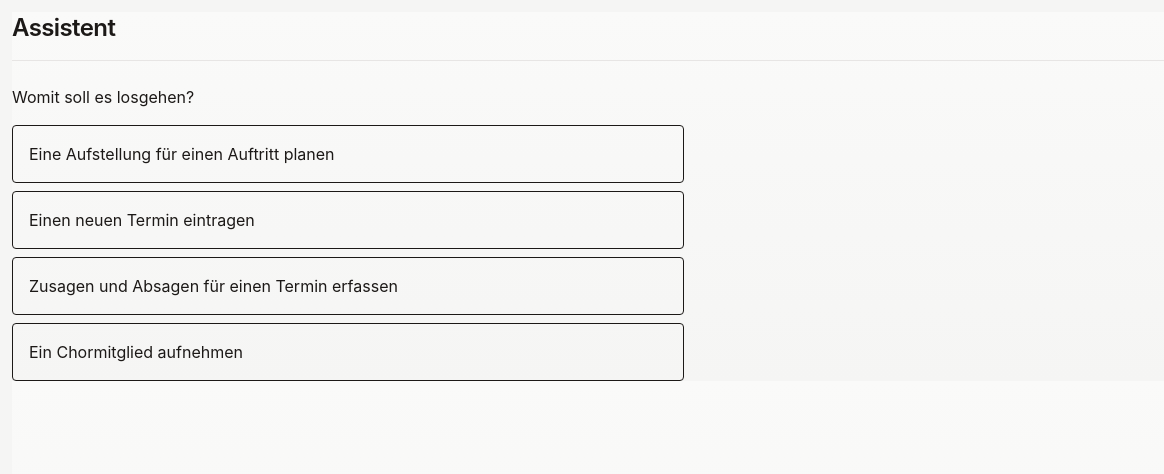
Scenario: WizardPage › termin flow creates an event
Click the button "Einen neuen Termin eintragen" at (142, 220), box [12,191,684,249]
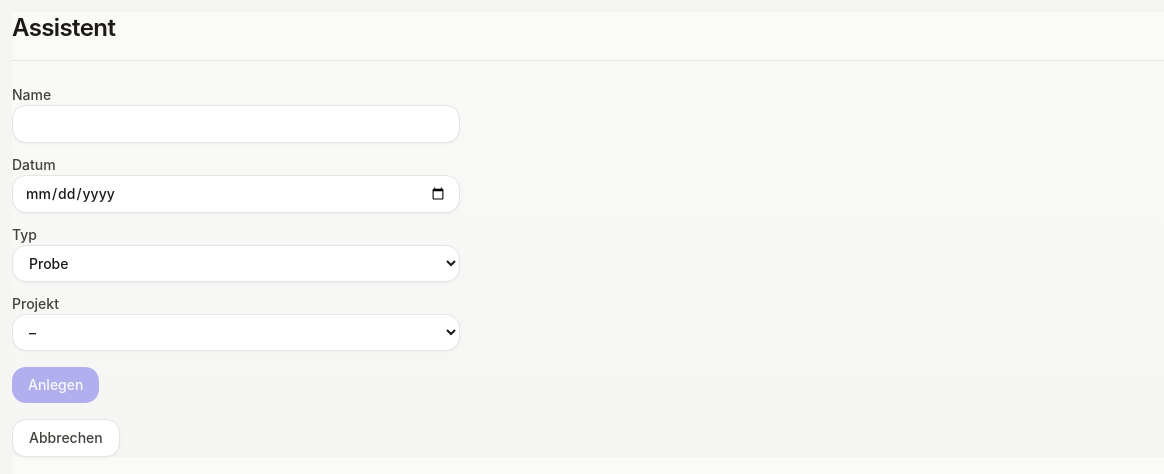
Type "Neue Probe" into the field labelled "Name" at (236, 124), box [12,105,460,143]
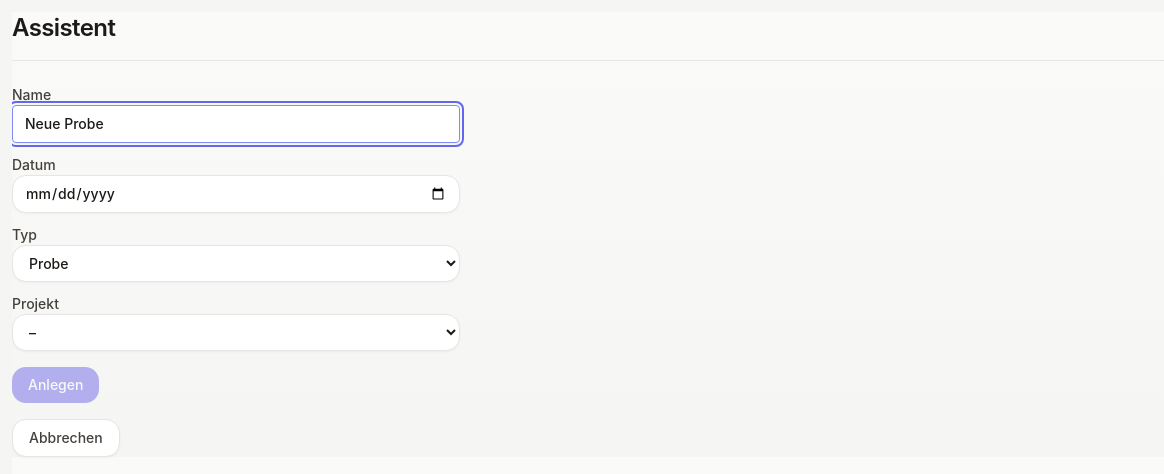
Type "2026-12-01" into the date field labelled "Datum" at (236, 194), box [12,175,460,213]
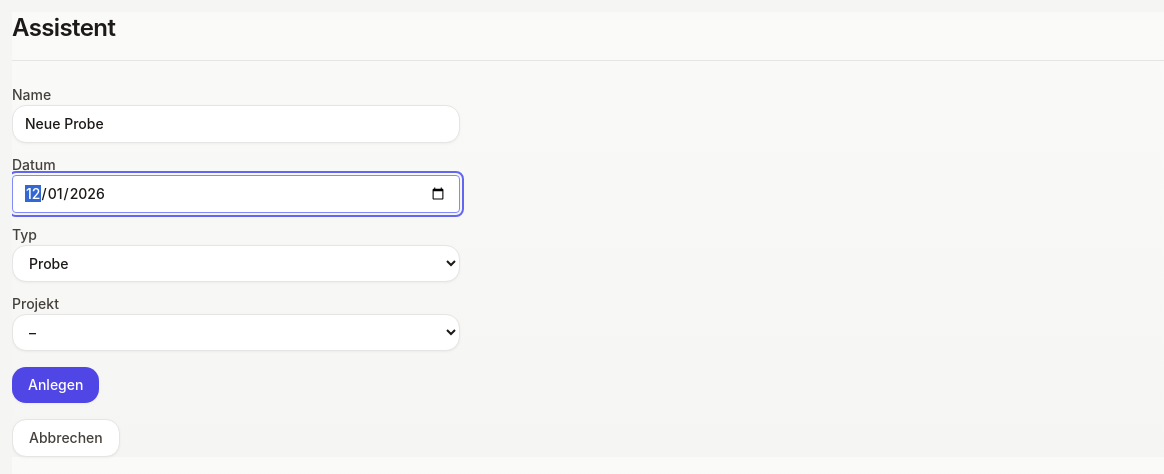
Click the button "Anlegen" at (56, 385), box [12,367,99,403]
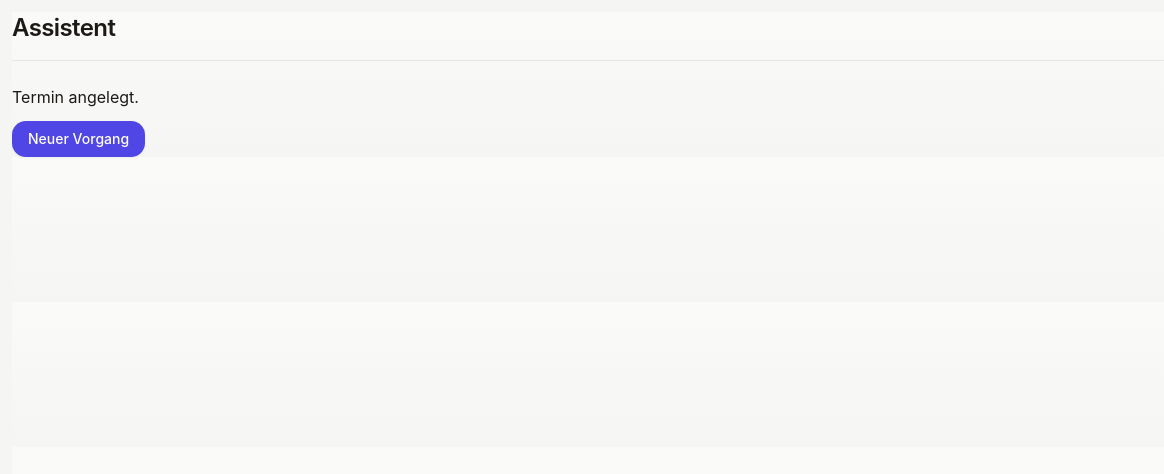
Check: the text "Termin angelegt." is shown, box [12,87,139,107]
